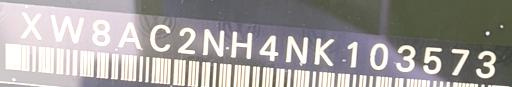letter: (50, 12, 84, 45), (117, 20, 143, 51), (284, 34, 310, 65), (20, 10, 44, 41), (230, 29, 254, 60), (312, 37, 336, 68), (420, 44, 444, 75), (474, 49, 498, 80), (201, 27, 225, 56), (150, 22, 172, 53), (368, 41, 390, 72), (90, 18, 112, 47), (258, 33, 280, 62), (396, 44, 416, 75), (450, 45, 470, 75), (176, 26, 196, 55), (345, 40, 361, 69)
